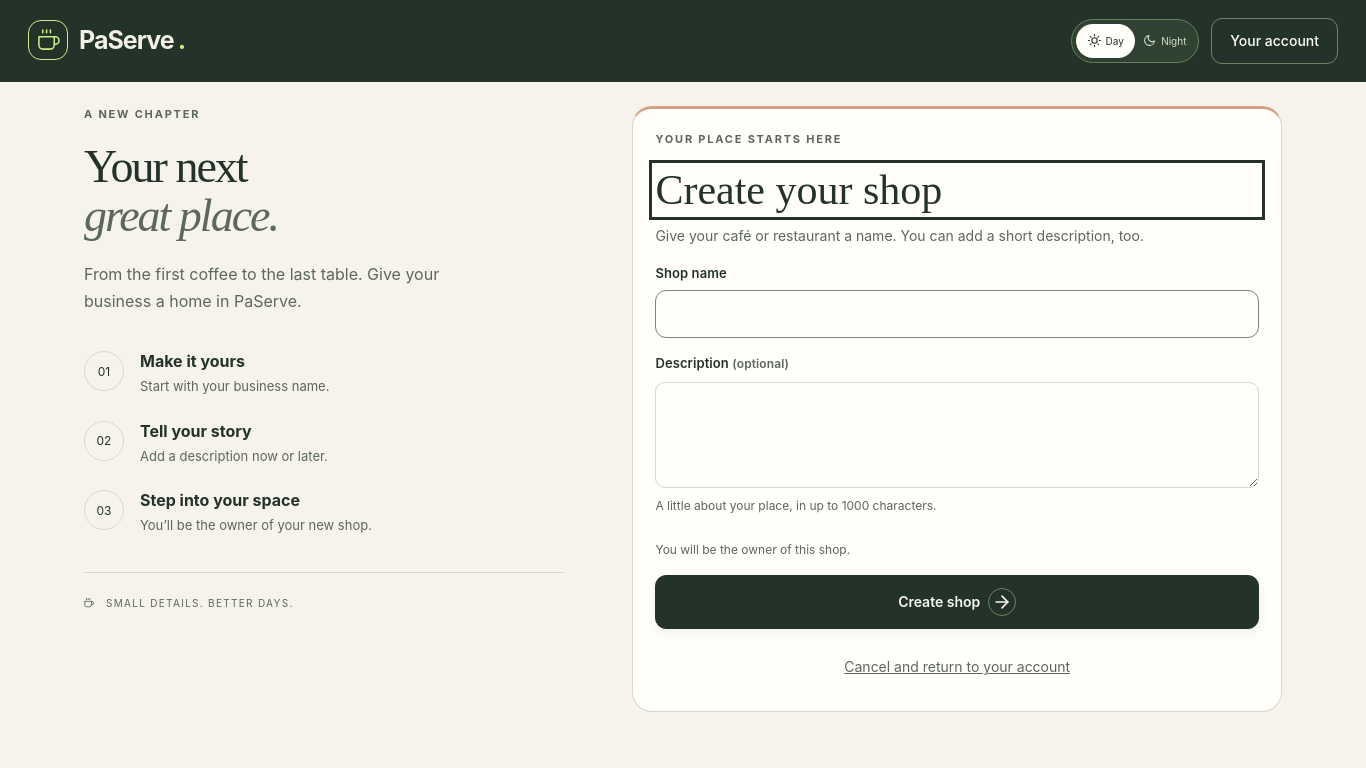
it: submits normalized business information and shows the new owner membership
In the field labelled "Shop name": (957, 314) [655, 290, 1259, 338], type " Café North "
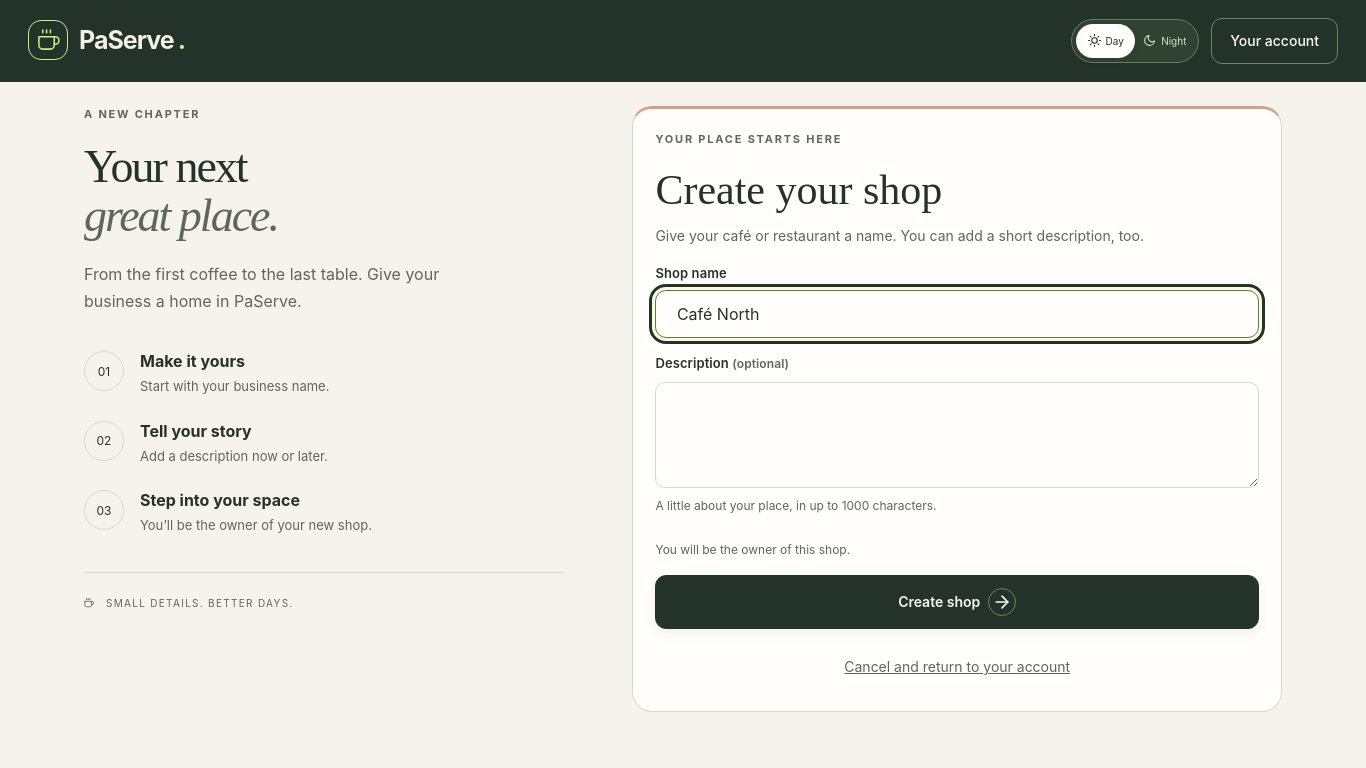
In the text box labelled "Description (optional)": (957, 436) [655, 382, 1259, 488], type " Coffee and pastries "
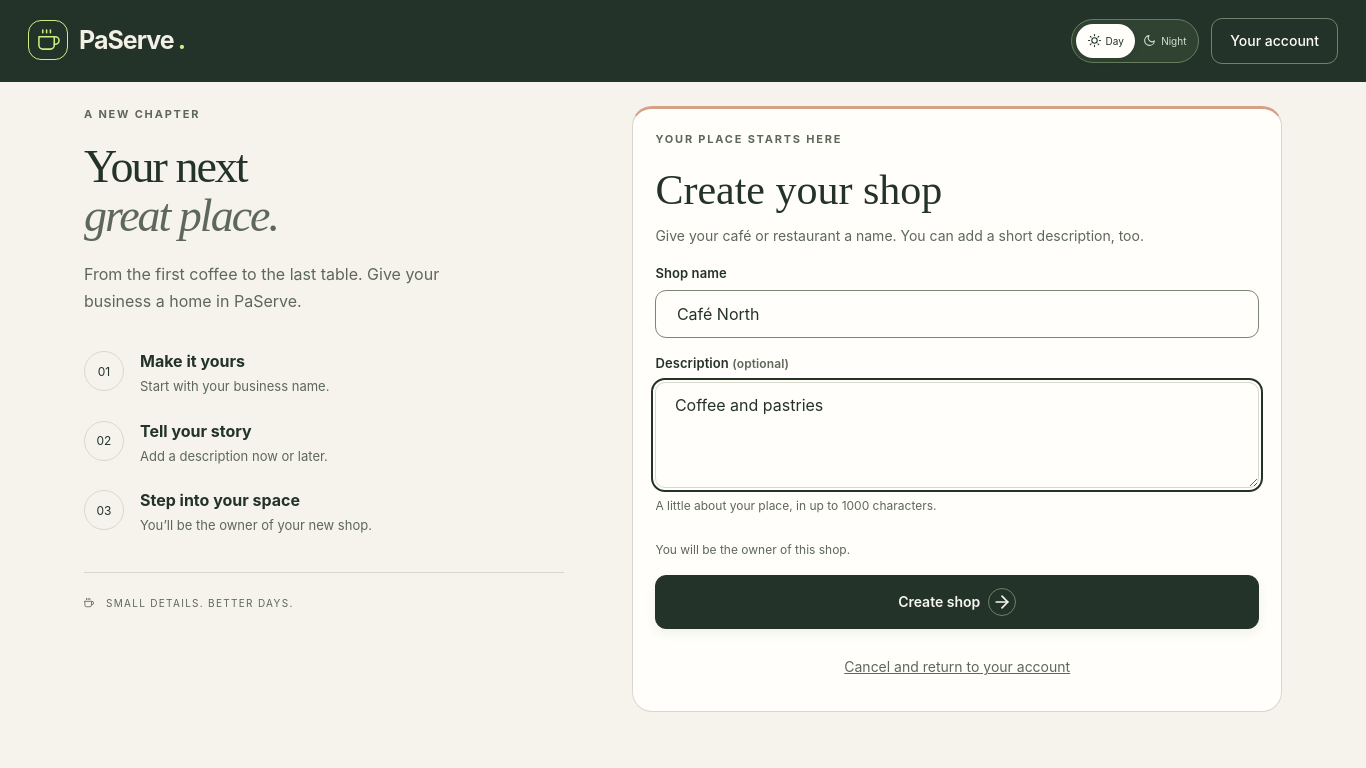
Click the button "Create shop": (957, 602) [655, 575, 1259, 629]
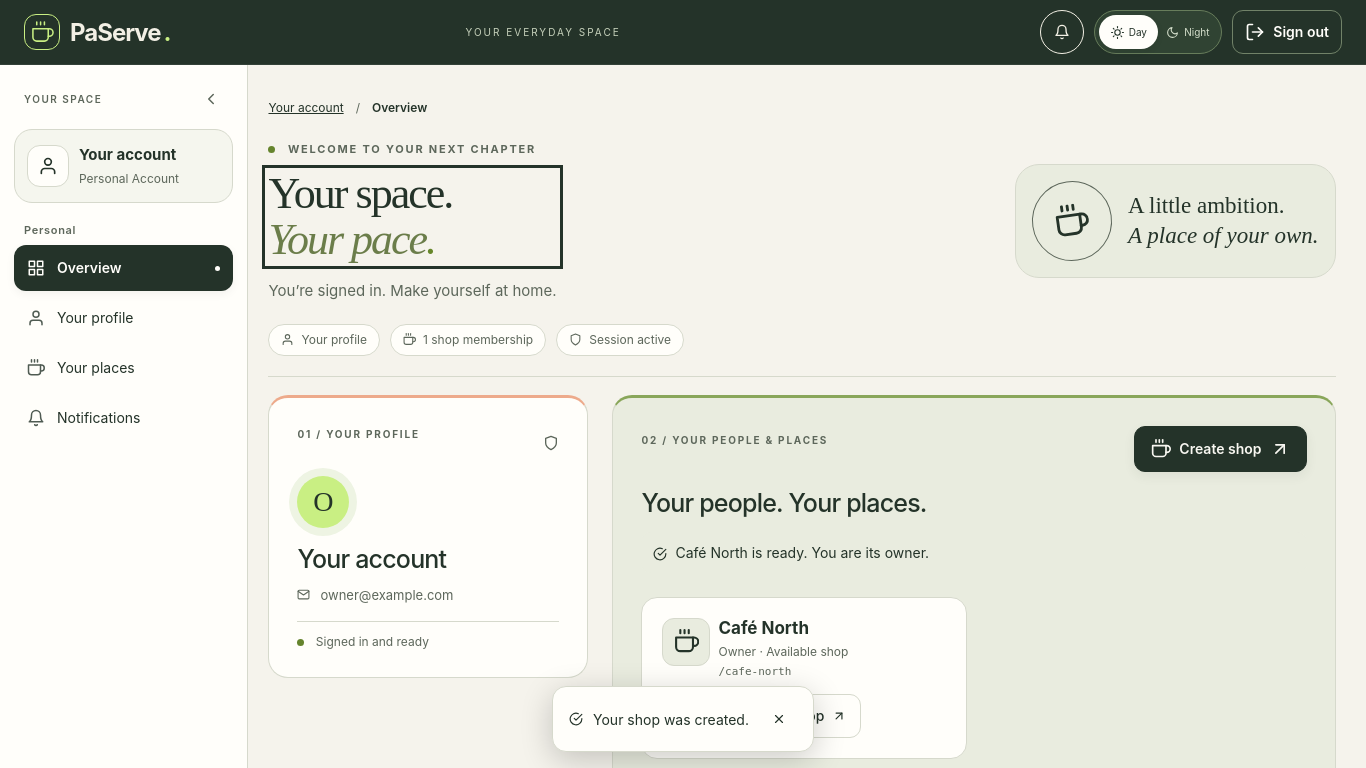
Check: the text "Your shop was created." is shown, box [593, 708, 749, 730]
Check: the text "Café North is ready. You are its owner." is shown, box [676, 544, 929, 561]
Check: the text "Café North" is shown, box [718, 618, 809, 638]
